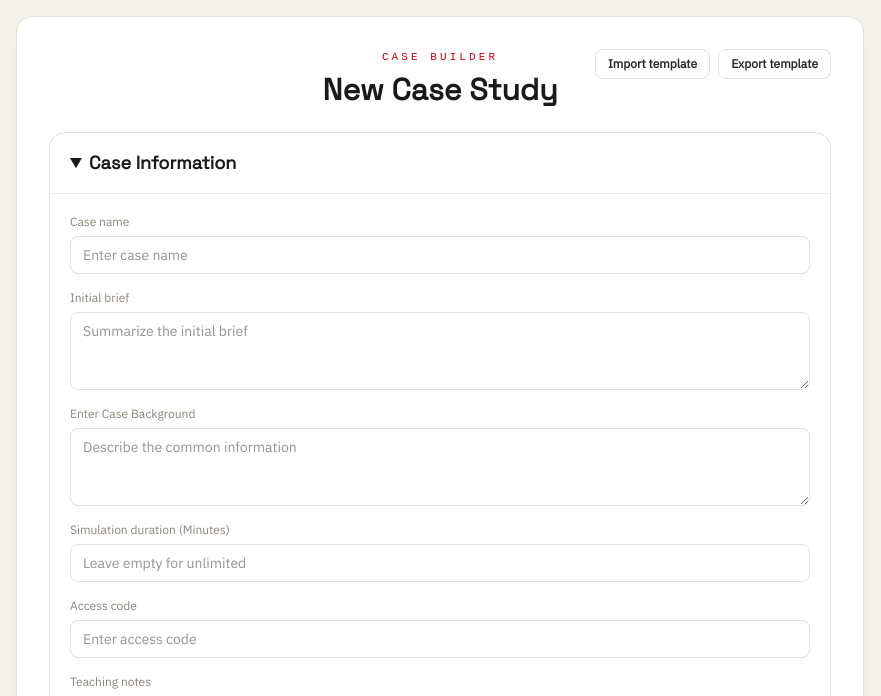
Test: CaseForm › create mode — validation › only shows the error of the field being edited, until the form is submitted
Type "a" into the field labelled "Case name" at (440, 254), box [70, 236, 810, 274]
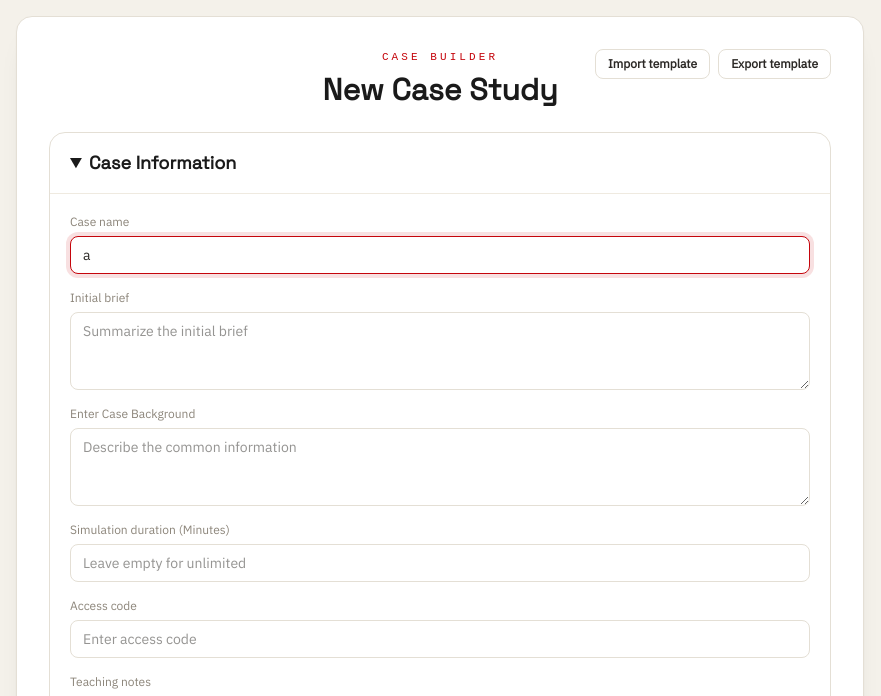
Clear the field labelled "Case name" at (440, 254), box [70, 236, 810, 274]
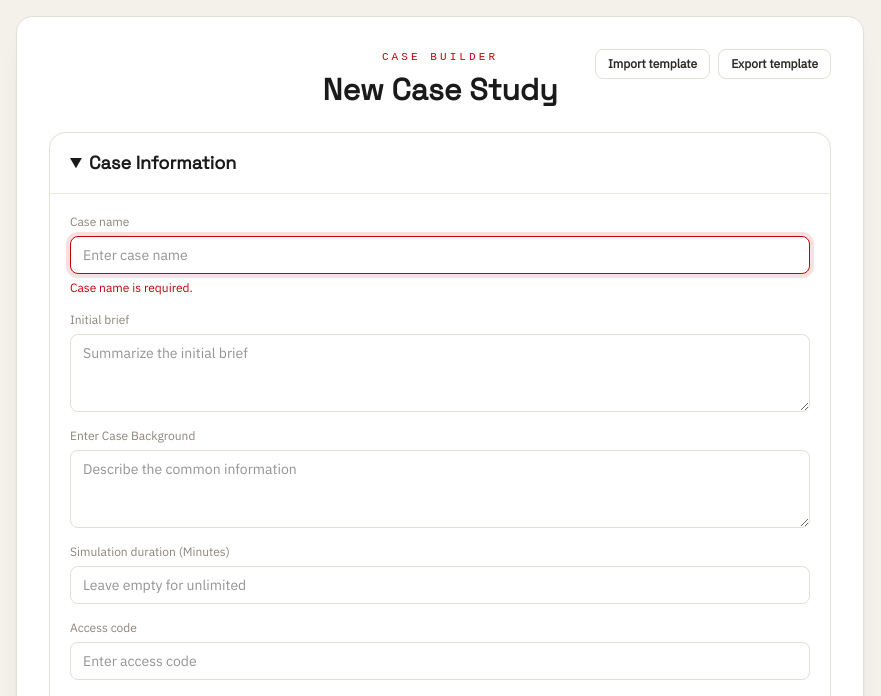
Expected: the text "Case name is required." is shown, [70, 280, 193, 294]
